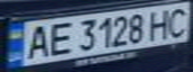1: (93, 15, 115, 48)
2: (112, 12, 133, 47)
3: (75, 16, 100, 52)
8: (127, 10, 151, 44)
A: (18, 22, 54, 61)
C: (163, 4, 193, 38)
E: (42, 19, 75, 57)
H: (145, 7, 175, 40)
